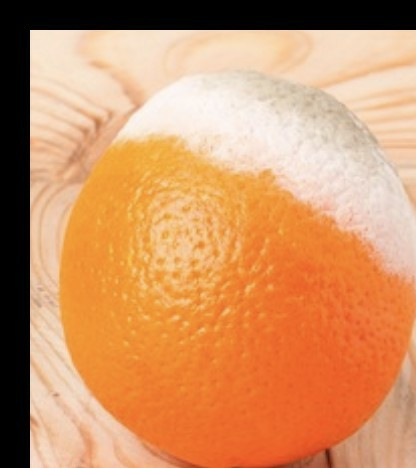rotten_orange: (55, 70, 416, 468)
